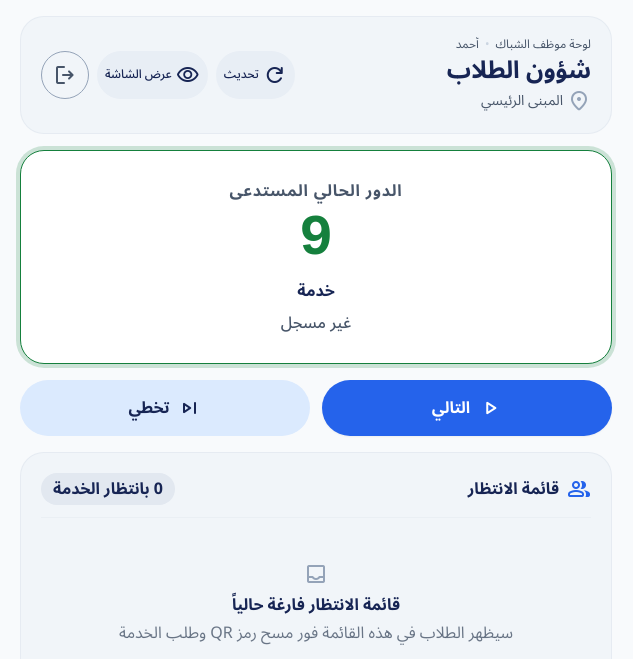
Test: StaffPanelPage Component › shows an Arabic message and refreshes the queue on a 409 STALE_TICKET response when skipping
The image size is (633, 659).
expect the text "9" is shown: met, box [299,207,333,271]
Click the button "تخطي" at (165, 408), box [20,380,310,436]
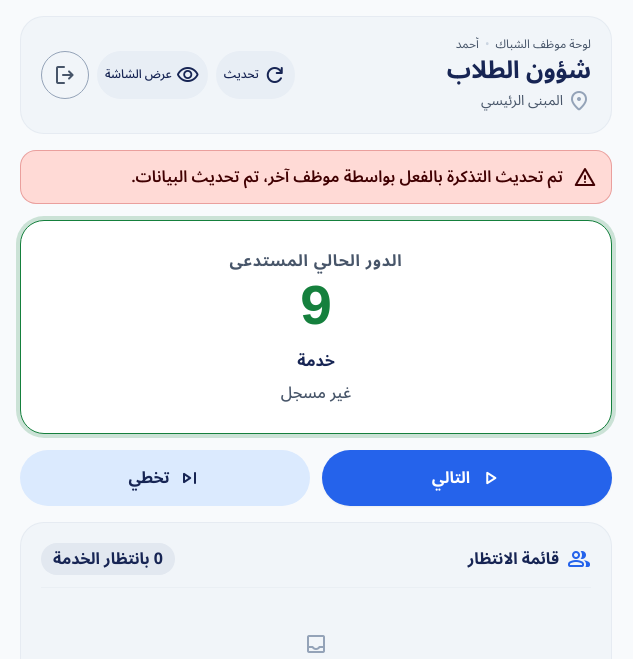
expect the text "تم تحديث التذكرة بالفعل بواسطة موظف آخر، تم تحديث البيانات." is shown: met, box [131,165,563,189]
